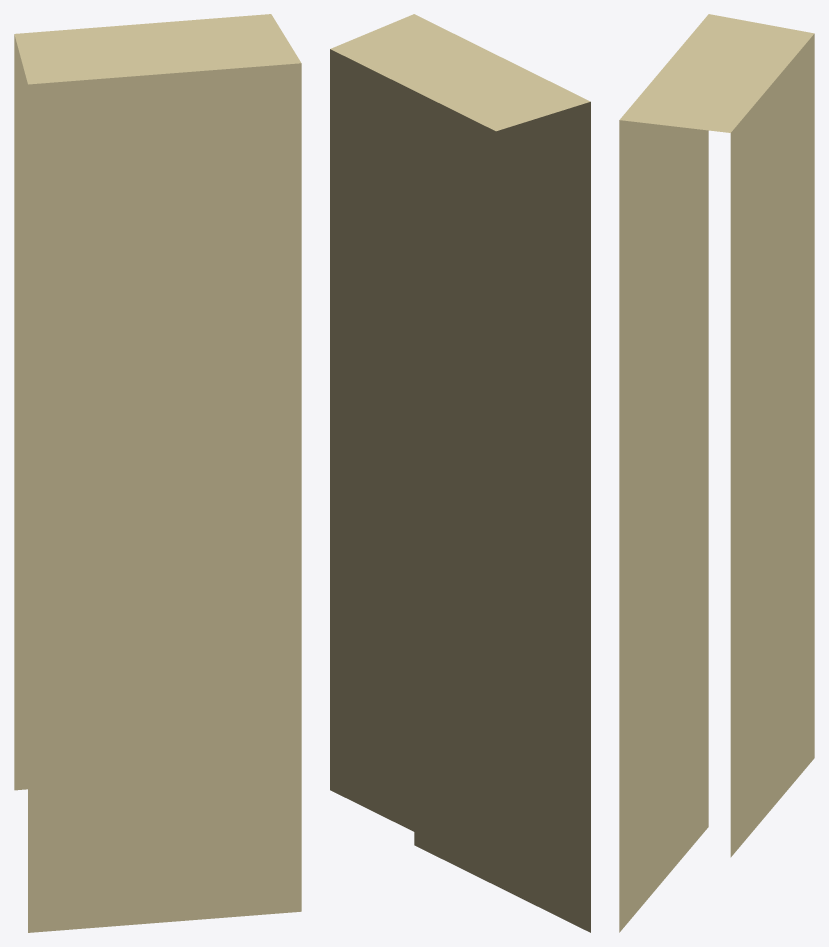
The model's file is wall3.fbx.
3 views of the same model, side by side, from view 1: azimuth 30°, elevation 25°; view 2: azimuth 150°, elevation 25°; view 3: azimuth 270°, elevation 25° (orthographic). The views are drawn at different scales.
Visible parts, largest first — view 1: duvar.034; view 2: duvar.034; view 3: duvar.034.
Part boxes in pixels (x1,y1,x2,y2): duvar.034: (14,14,301,932); duvar.034: (330,14,590,932); duvar.034: (619,14,814,932).
Size of the model in its own units: 14.13 by 44.99 by 9.79.
